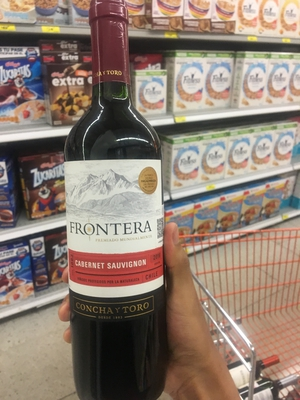frontera cabernet sauvignon: (53, 17, 186, 399)
